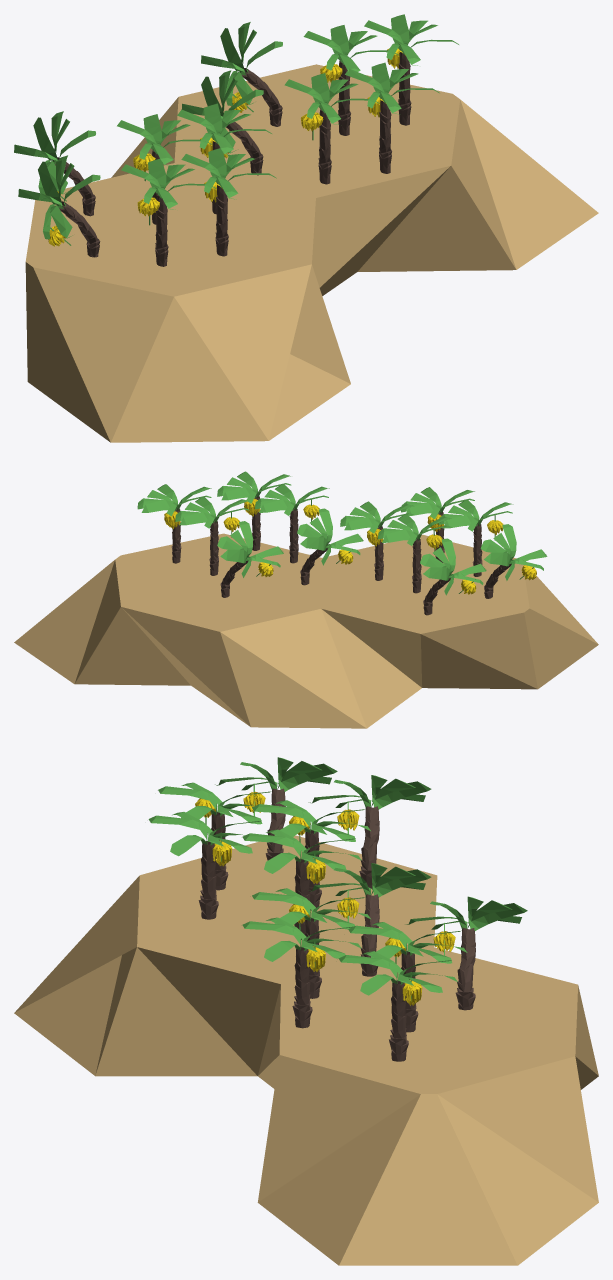
Rendered from insel3.fbx.
3 renders of one model, top to bottom at view 1: azimuth 30°, elevation 25°; view 2: azimuth 150°, elevation 25°; view 3: azimuth 270°, elevation 25°, orthographic. The views are drawn at different scales.
Parts seen in each view (by area): view 1: Landschaft, Blätter, Blätter_20, Blätter_14, Blätter_24, Blätter_10, Blätter_16, Blätter_6, Blätter_12, Blätter_18, Blätter_4, Blätter_22 (+11 smaller); view 2: Landschaft, Blätter, Blätter_8, Blätter_14, Blätter_20, Blätter_18, Blätter_12, Blätter_10, Blätter_16, Blätter_22, Blätter_24, Blätter_4 (+10 smaller); view 3: Landschaft, Blätter_20, Blätter, Blätter_8, Blätter_14, Blätter_24, Blätter_12, Blätter_18, Blätter_6, Blätter_22, Blätter_16, Blätter_10 (+8 smaller).
Boxes of the visible parts, x1,y1,x2,y2 form: Landschaft: (25, 64, 598, 442); Blätter: (18, 155, 100, 239); Blätter_20: (201, 22, 282, 105); Blätter_14: (14, 111, 95, 194); Blätter_24: (364, 14, 458, 65); Blätter_10: (284, 73, 379, 124); Blätter_16: (117, 114, 211, 165); Blätter_6: (181, 148, 276, 199); Blätter_12: (345, 62, 439, 114); Blätter_18: (177, 103, 271, 155); Blätter_4: (121, 158, 216, 209); Blätter_22: (303, 25, 398, 71); Landschaft: (14, 533, 598, 728); Blätter: (480, 524, 547, 580); Blätter_8: (297, 508, 363, 565); Blätter_14: (420, 538, 486, 595); Blätter_20: (217, 521, 283, 577); Blätter_18: (340, 501, 413, 533); Blätter_12: (217, 471, 291, 503); Blätter_10: (255, 484, 329, 515); Blätter_16: (378, 514, 451, 545); Blätter_22: (175, 497, 249, 528); Blätter_24: (137, 484, 211, 516); Blätter_4: (438, 500, 513, 531); Landschaft: (14, 835, 598, 1265); Blätter_20: (405, 896, 527, 930); Blätter: (215, 757, 337, 791); Blätter_8: (308, 863, 431, 897); Blätter_14: (308, 775, 431, 809); Blätter_24: (338, 951, 457, 995); Blätter_12: (242, 917, 361, 961); Blätter_18: (242, 829, 361, 873); Blätter_6: (148, 812, 267, 856); Blätter_22: (348, 922, 467, 963); Blätter_16: (252, 800, 370, 841); Blätter_10: (252, 888, 370, 929).
Bounding box in the file's own units: 9888 × 3231 × 7742.
4 materials, 3 textured.
